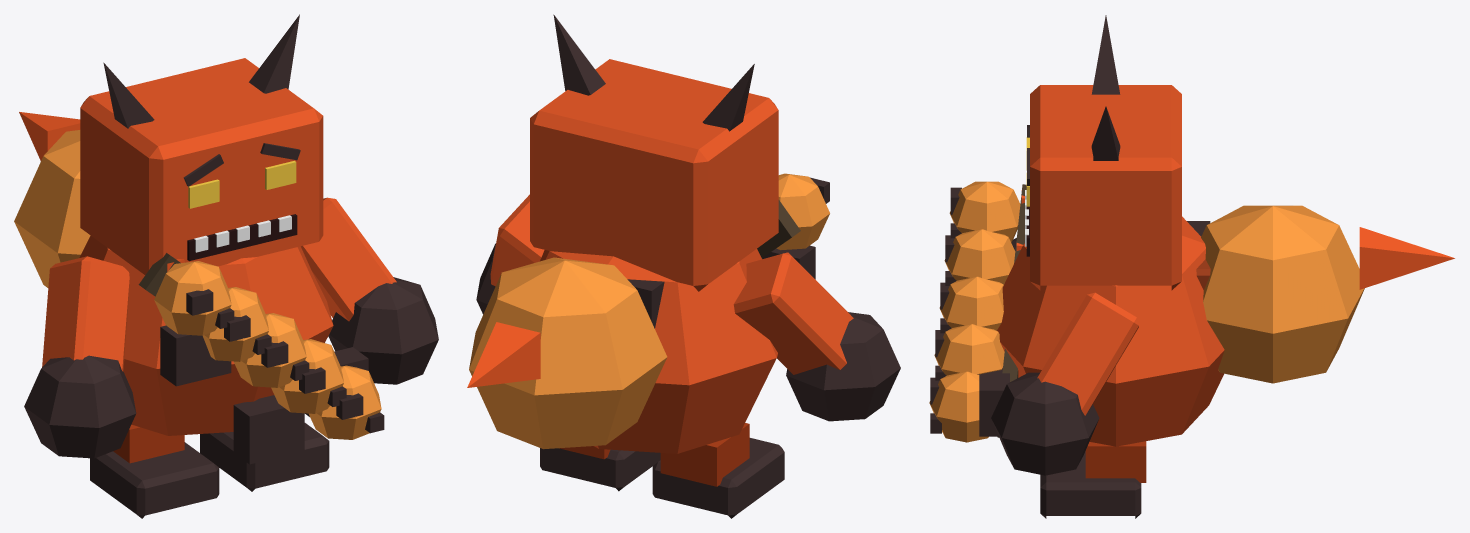
The model's file is r16_mini_meteor_bomber.glb.
3 renders of one model, left to right at view 1: azimuth 30°, elevation 25°; view 2: azimuth 150°, elevation 25°; view 3: azimuth 270°, elevation 25°, orthographic. The views are drawn at different scales.
Visible parts, largest first — view 1: r16_mini_meteor_bomber_mesh; view 2: r16_mini_meteor_bomber_mesh; view 3: r16_mini_meteor_bomber_mesh.
Part boxes in pixels (x1,y1,x2,y2): r16_mini_meteor_bomber_mesh: (14,14,438,518); r16_mini_meteor_bomber_mesh: (467,14,900,518); r16_mini_meteor_bomber_mesh: (929,15,1454,518).
Size of the model in its own units: 3.44 by 3.6 by 4.12.
Materials: 1 (1 with a texture image).
